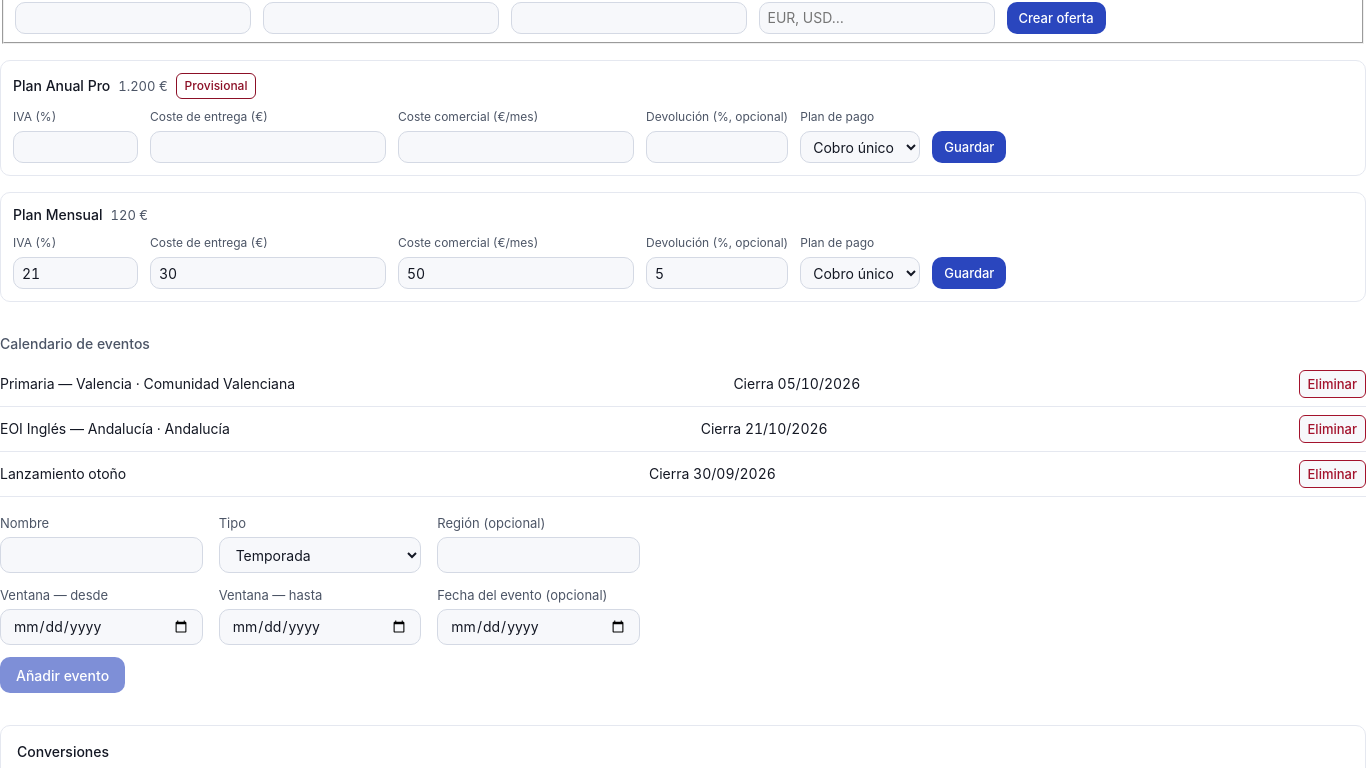
Test case: AjustesNegocioPage — Calendario de eventos › un servidor que rechaza el borrado muestra el motivo por clase de error, sin perder el resto de la lista
(page scrolled)
Check: the text "Primaria — Valencia · Comunidad Valenciana" is shown, box [0, 374, 295, 394]
Click the button with aria-label "Eliminar evento: Primaria — Valencia": click(1332, 384) [1298, 370, 1365, 398]
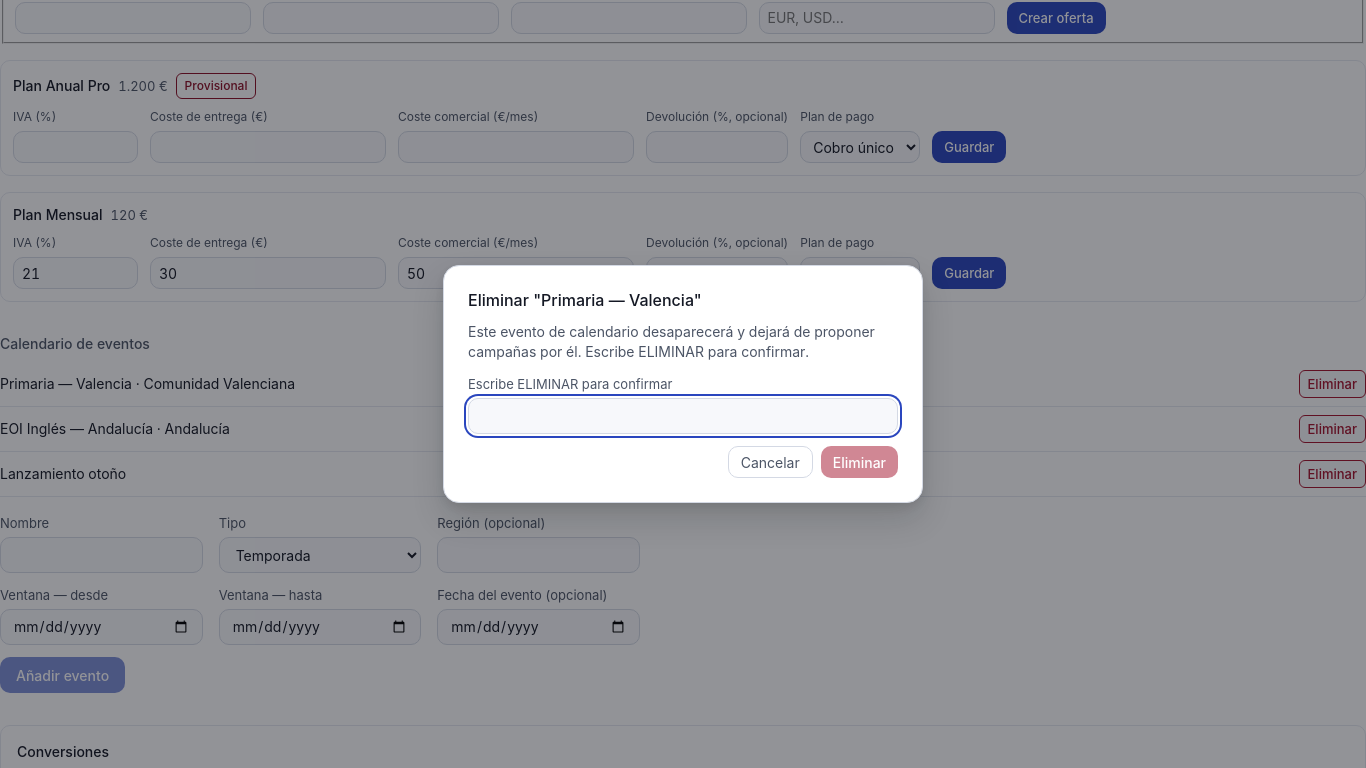
In the field labelled "Escribe ELIMINAR para confirmar": (683, 416) [468, 398, 898, 434], type "ELIMINAR"
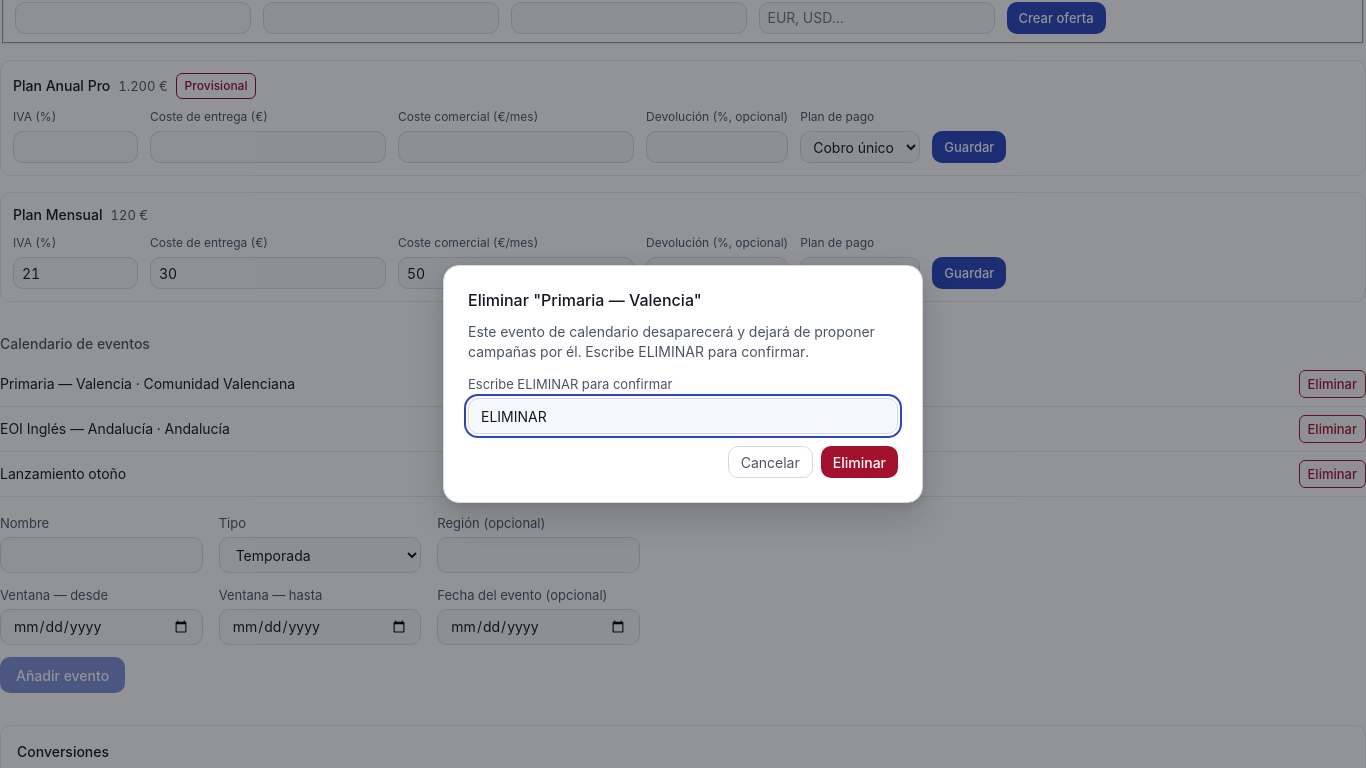
Click the button "Eliminar": click(859, 462) [821, 446, 898, 478]
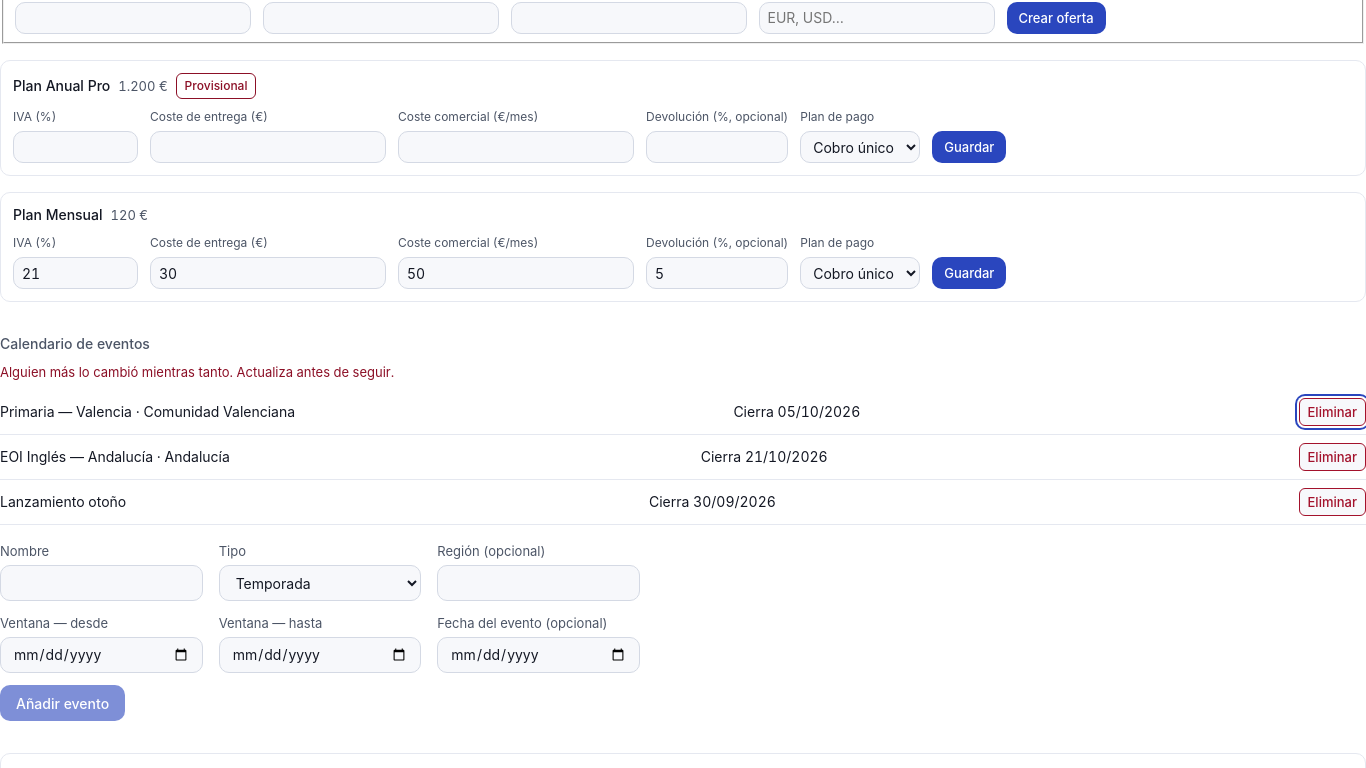
Check: the text "Primaria — Valencia · Comunidad Valenciana" is shown, box [0, 402, 295, 422]
Check: the text "Alguien más lo cambió mientras tanto. Actualiza antes de seguir." is shown, box [0, 364, 394, 380]
